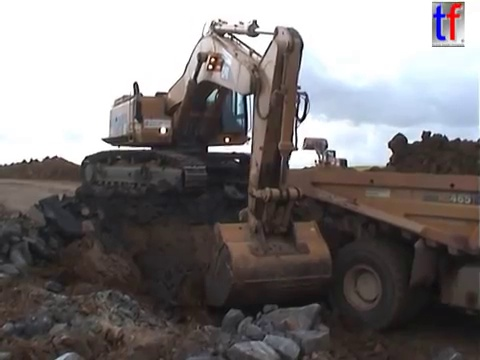excavator: (77, 15, 338, 314)
truck: (259, 165, 480, 339)
wheel loader: (299, 135, 351, 176)
